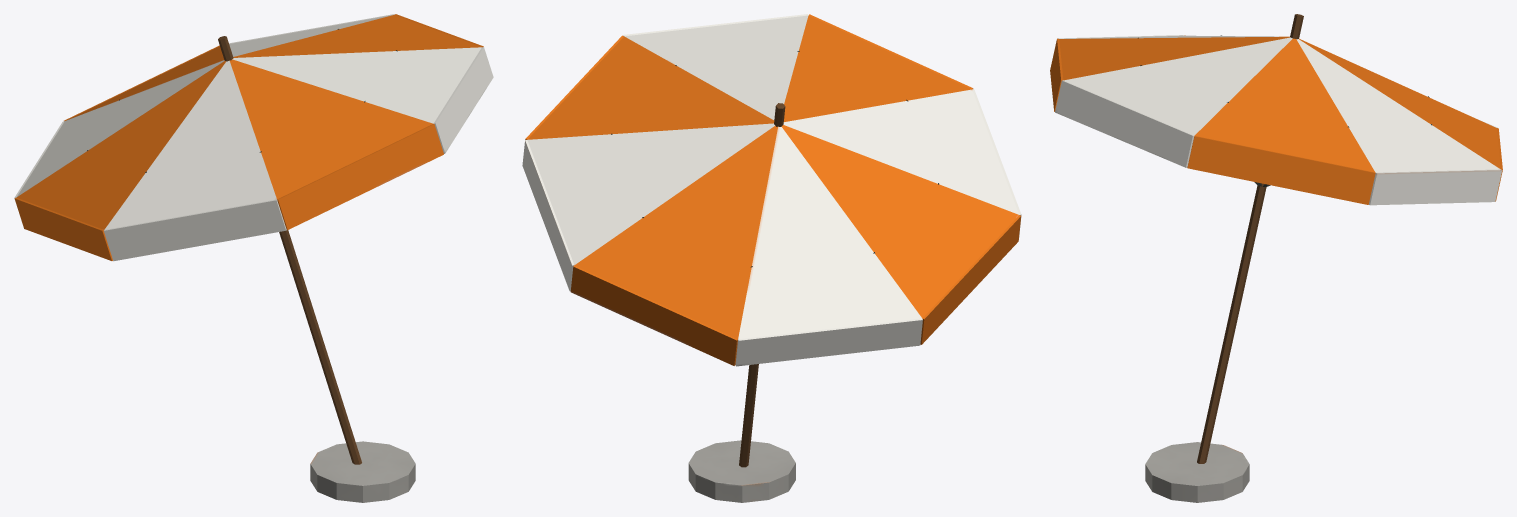
Rendered from slunecnik_46ba321c.glb.
The picture shows the model from 3 angles, left to right: view 1: azimuth 30°, elevation 25°; view 2: azimuth 150°, elevation 25°; view 3: azimuth 270°, elevation 25°; orthographic projection. The views are drawn at different scales.
Parts seen in each view (by area): view 1: dum; view 2: dum; view 3: dum.
Boxes of the visible parts, bbox=[...] form: dum: bbox=[14, 14, 493, 502]; dum: bbox=[522, 14, 1021, 502]; dum: bbox=[1050, 14, 1502, 502].
Bounding box in the file's own units: 2.43 × 2.51 × 2.43.
1 material, 1 textured.
